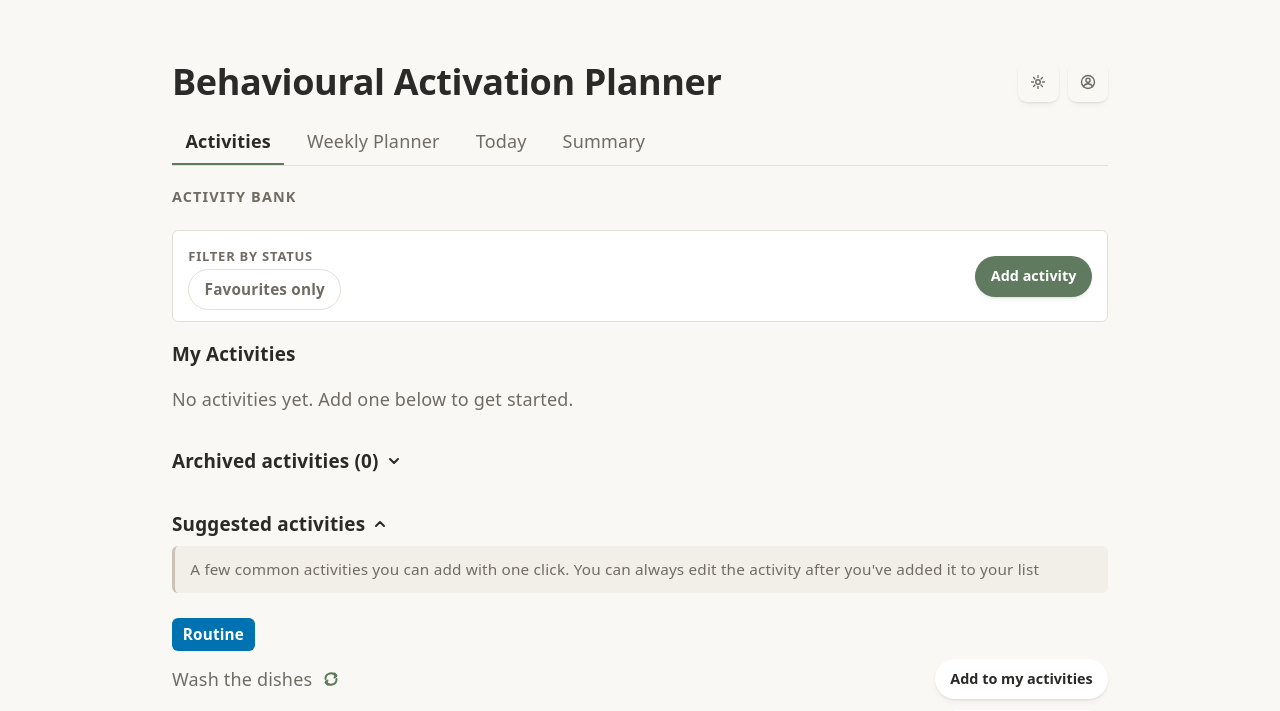
Test: App › FRONTEND-016-AC-01/AC-02: Today is a routed, protected top-level tab › navigates to /today and renders TodayView when the Today tab is clicked
The width and height of the screenshot is (1280, 711).
Click the link "Today" at (501, 141), box 476,129 -> 527,153
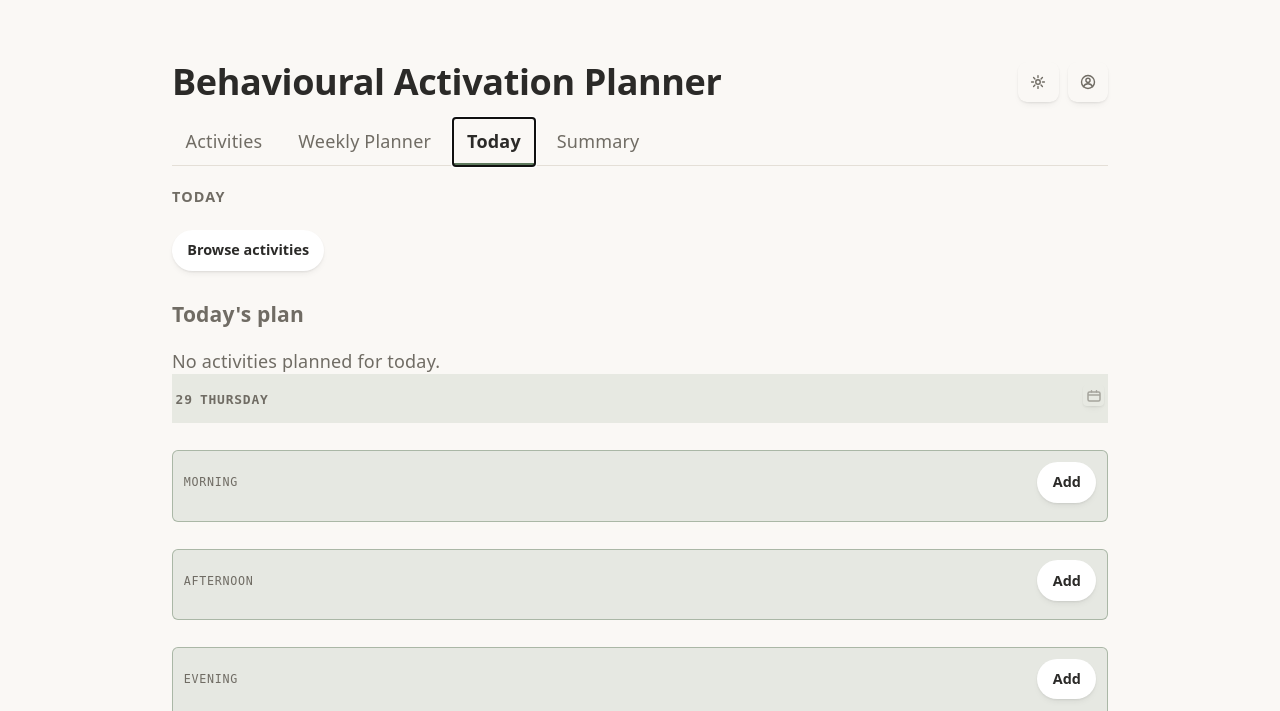
Expected: the heading "Today" is shown, 172,187 -> 226,206
